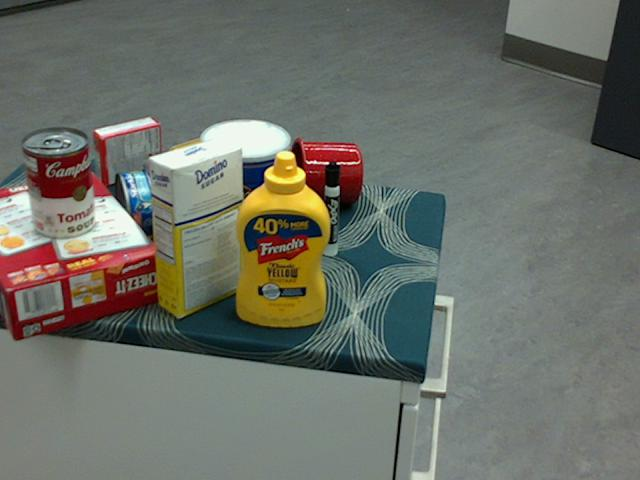cracker_box: (0, 170, 164, 340)
gelatin_box: (92, 117, 160, 186)
large_marker: (323, 161, 340, 256)
master_chef_can: (198, 118, 288, 262)
mug: (287, 136, 361, 208)
mustard_bottle: (235, 150, 331, 326)
potted_meat_can: (167, 129, 247, 219)
sugar_box: (147, 137, 244, 317)
tomato_soup_can: (21, 127, 95, 239)
tuna_fish_can: (112, 170, 154, 243)
